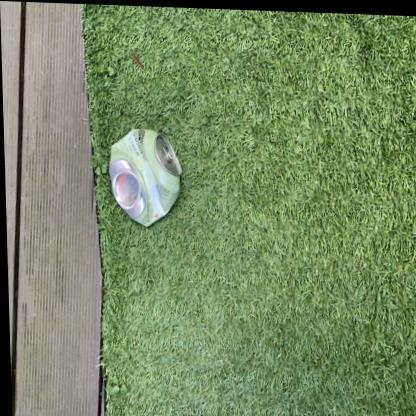trash: (109, 129, 181, 225)
